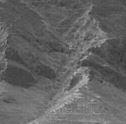Target: (64, 40, 77, 50)
